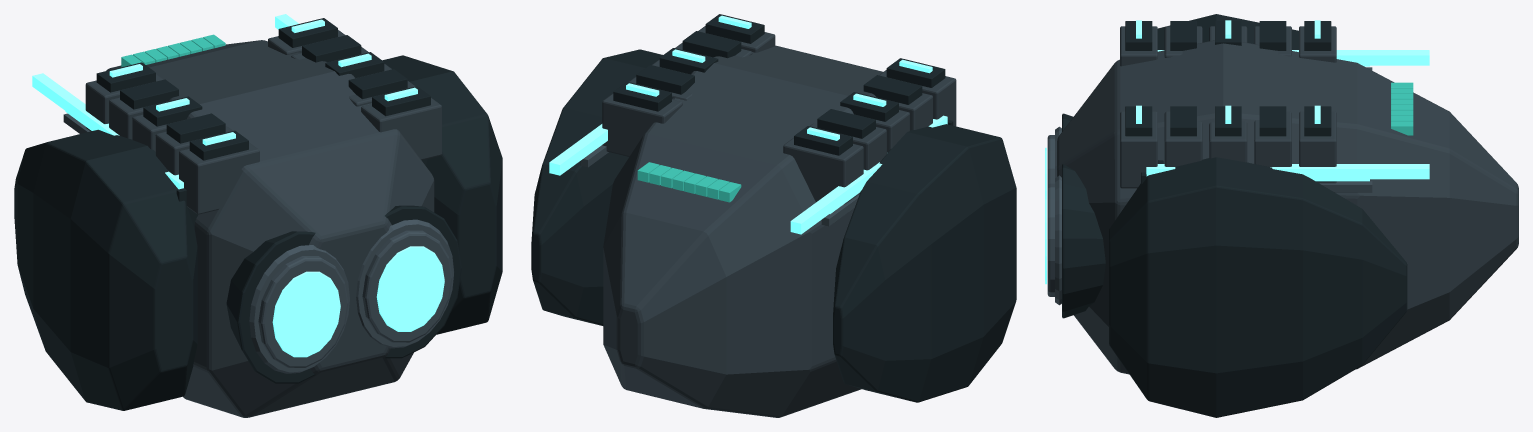
The model's file is enemy_silent.glb.
3 renders of one model, left to right at view 1: azimuth 30°, elevation 25°; view 2: azimuth 150°, elevation 25°; view 3: azimuth 270°, elevation 25°, orthographic. The views are drawn at different scales.
Parts seen in each view (by area): view 1: silent_dark, silent_hull, silent_glow, silent_trim, silent_glass; view 2: silent_hull, silent_dark, silent_glow, silent_glass, silent_trim; view 3: silent_dark, silent_hull, silent_glow, silent_trim, silent_glass.
Boxes of the visible parts, bbox=[...] form: silent_dark: bbox=[14, 18, 502, 410]; silent_hull: bbox=[85, 30, 441, 417]; silent_glow: bbox=[32, 14, 444, 357]; silent_trim: bbox=[63, 113, 453, 373]; silent_glass: bbox=[121, 34, 225, 66]; silent_hull: bbox=[602, 26, 956, 417]; silent_dark: bbox=[531, 14, 1016, 402]; silent_glow: bbox=[549, 15, 947, 234]; silent_glass: bbox=[637, 162, 741, 202]; silent_trim: bbox=[580, 145, 859, 226]; silent_dark: bbox=[1062, 14, 1407, 417]; silent_hull: bbox=[1057, 26, 1518, 374]; silent_glow: bbox=[1045, 20, 1429, 284]; silent_trim: bbox=[1047, 67, 1372, 305]; silent_glass: bbox=[1391, 82, 1413, 135].
Size of the model in its own units: 28 by 20 by 30.
